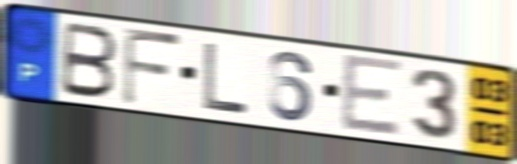3: (408, 68, 461, 142)
6: (267, 49, 315, 124)
B: (57, 19, 120, 101)
E: (340, 51, 405, 138)
F: (120, 24, 186, 109)
L: (202, 39, 251, 117)
